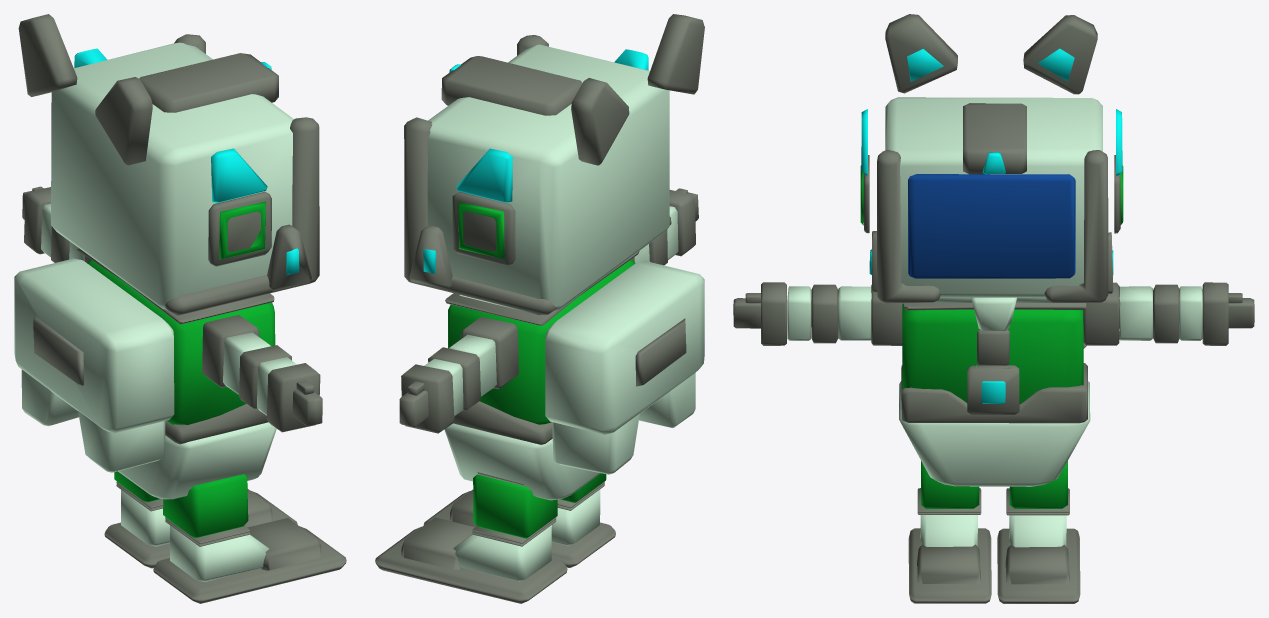
The model's file is Astronaut_3D_Character.fbx.
3 renders of one model, left to right at view 1: azimuth 30°, elevation 25°; view 2: azimuth 150°, elevation 25°; view 3: azimuth 270°, elevation 25°, orthographic. The views are drawn at different scales.
Parts seen in each view (by area): view 1: Spaceman; view 2: Spaceman; view 3: Spaceman.
Boxes of the visible parts, bbox=[...] form: Spaceman: bbox=[14, 14, 346, 603]; Spaceman: bbox=[375, 14, 704, 603]; Spaceman: bbox=[733, 14, 1254, 603].
Size of the model in its own units: 517 by 1081 by 1037.
